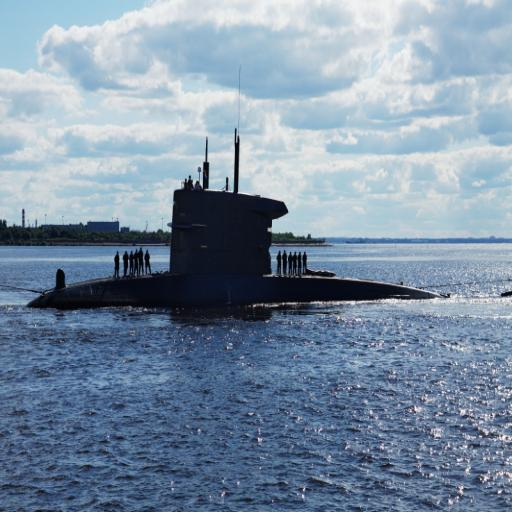submarine: (26, 188, 442, 312)
